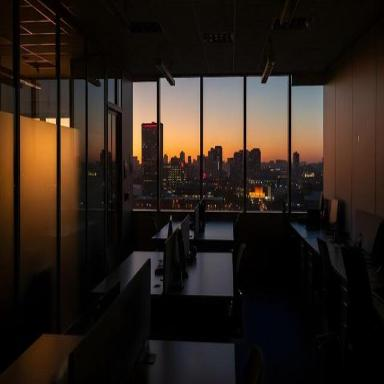glass_panel: (22, 121, 56, 339), (61, 13, 83, 323), (246, 76, 289, 210), (203, 78, 244, 211), (160, 78, 200, 209), (292, 86, 324, 214), (354, 39, 374, 240), (131, 82, 157, 212), (88, 84, 102, 280), (90, 86, 104, 278), (335, 63, 349, 237), (116, 113, 124, 244), (108, 111, 117, 207), (107, 111, 115, 206)
